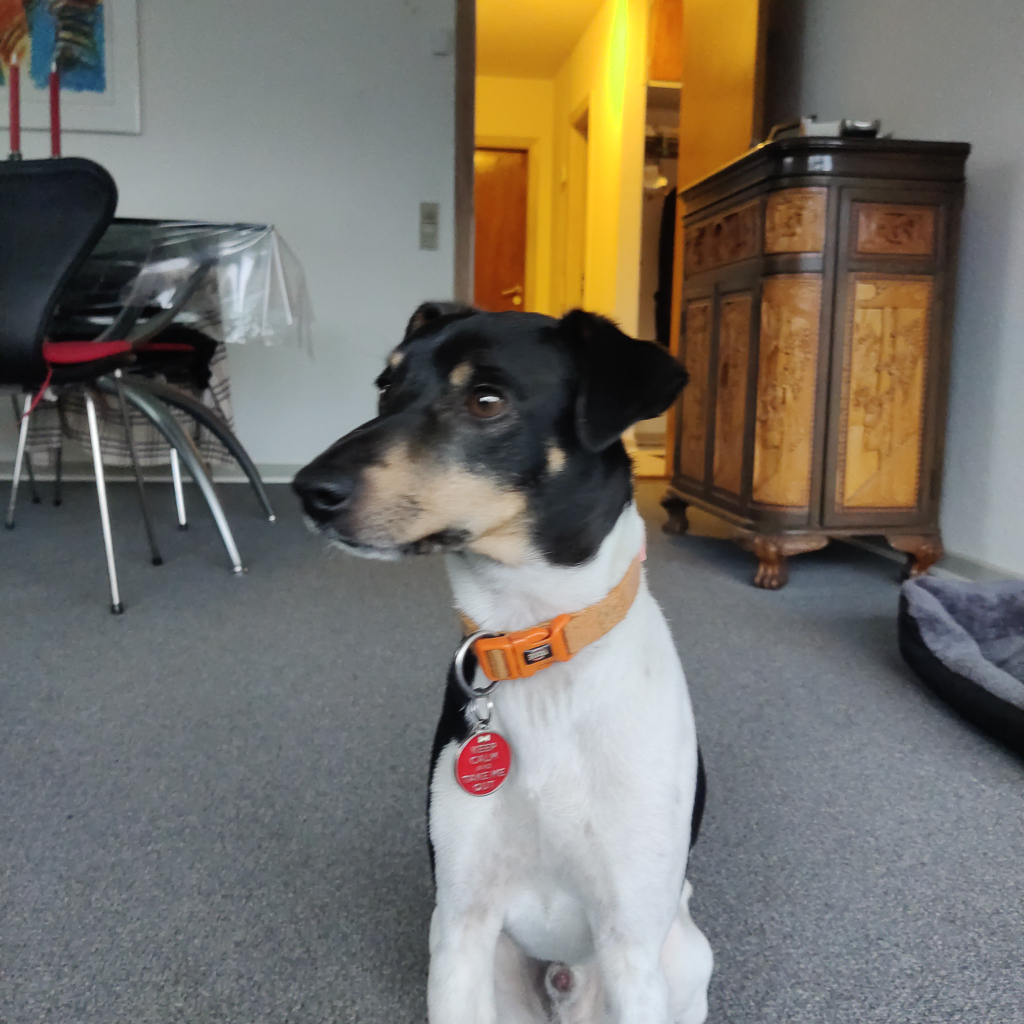Dog: (270, 263, 756, 1024)
